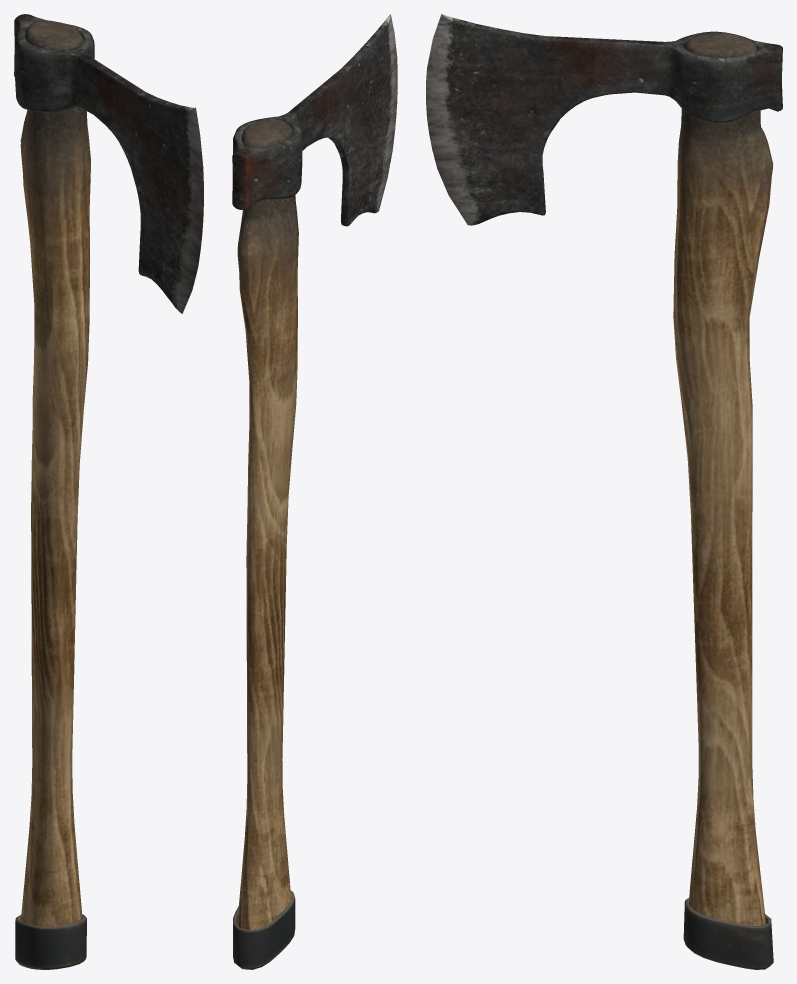
Rendered from wooden_axe.glb.
3 views of the same model, side by side, from view 1: azimuth 30°, elevation 25°; view 2: azimuth 150°, elevation 25°; view 3: azimuth 270°, elevation 25° (orthographic). The views are drawn at different scales.
Parts seen in each view (by area): view 1: wooden_axe; view 2: wooden_axe; view 3: wooden_axe.
Part boxes in pixels (x1,y1,x2,y2): wooden_axe: (14, 14, 203, 969); wooden_axe: (232, 14, 397, 969); wooden_axe: (426, 14, 782, 969).
Size of the model in its own units: 0.0472 by 0.6303 by 0.2143.
Materials: 1 (1 with a texture image).
